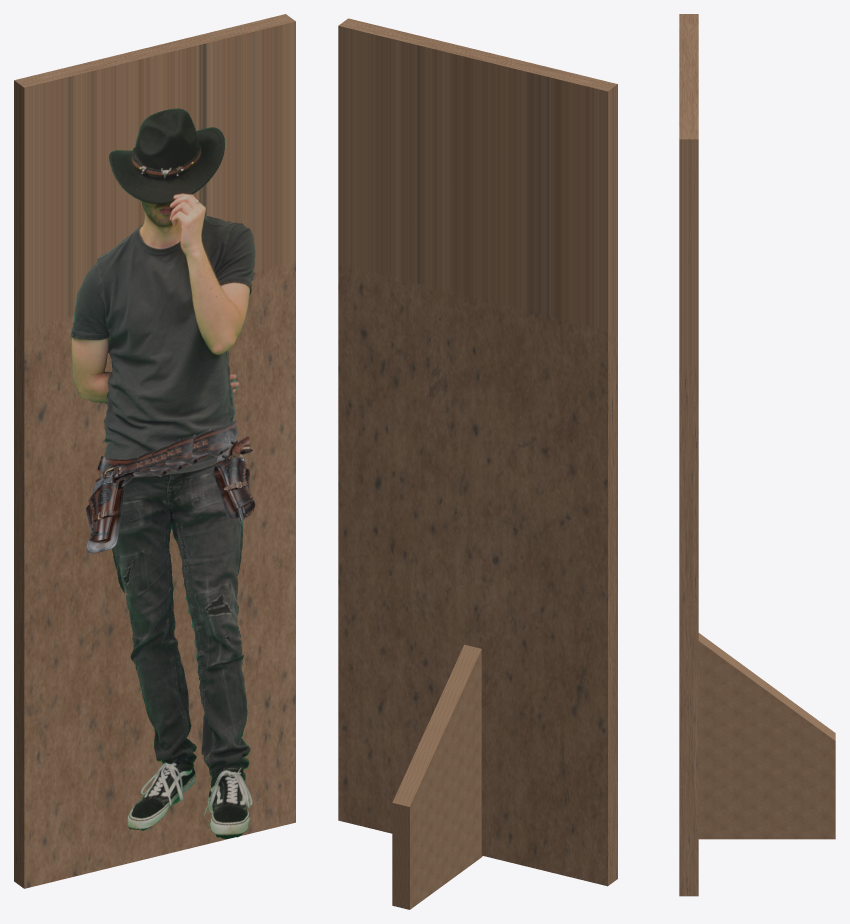
The picture shows the model from 3 angles, left to right: view 1: azimuth 30°, elevation 25°; view 2: azimuth 150°, elevation 25°; view 3: azimuth 270°, elevation 25°; orthographic projection. The views are drawn at different scales.
Parts seen in each view (by area): view 1: Cube, 5-shot; view 2: Cube, Cube.001; view 3: Cube.001, Cube.
Part boxes in pixels (<box>): Cube: <box>14,14,295,888</box>; 5-shot: <box>70,108,255,838</box>; Cube: <box>338,18,617,886</box>; Cube.001: <box>392,644,482,909</box>; Cube.001: <box>698,633,835,839</box>; Cube: <box>679,14,698,896</box>.
Bounding box in the file's own units: 479 × 1334 × 276.
